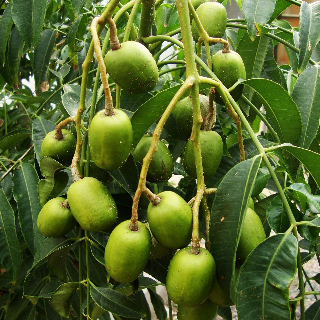coc: (167, 246, 216, 307), (104, 40, 157, 95), (105, 220, 149, 284), (89, 110, 131, 172), (68, 177, 117, 230)
